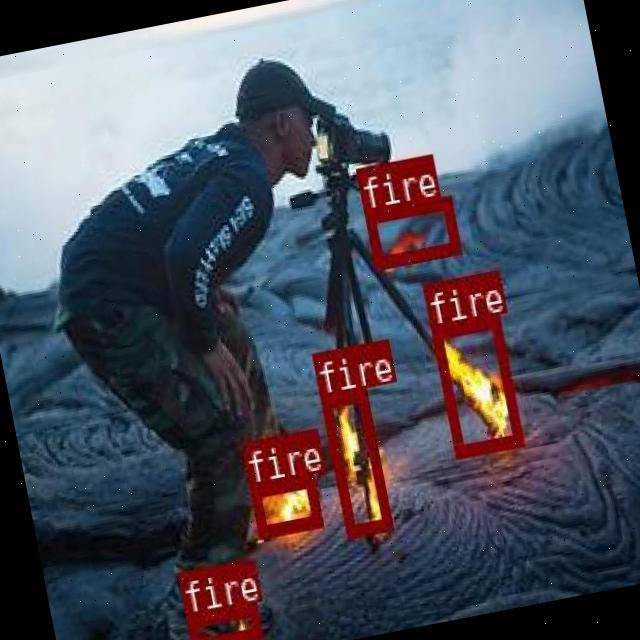fire: (429, 312, 521, 455), (318, 387, 391, 537), (364, 194, 460, 268), (248, 474, 322, 536), (185, 600, 260, 640)
